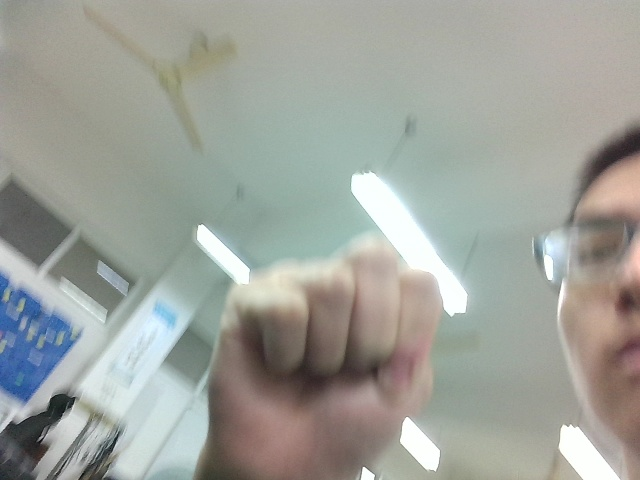stone: (199, 232, 437, 480)
